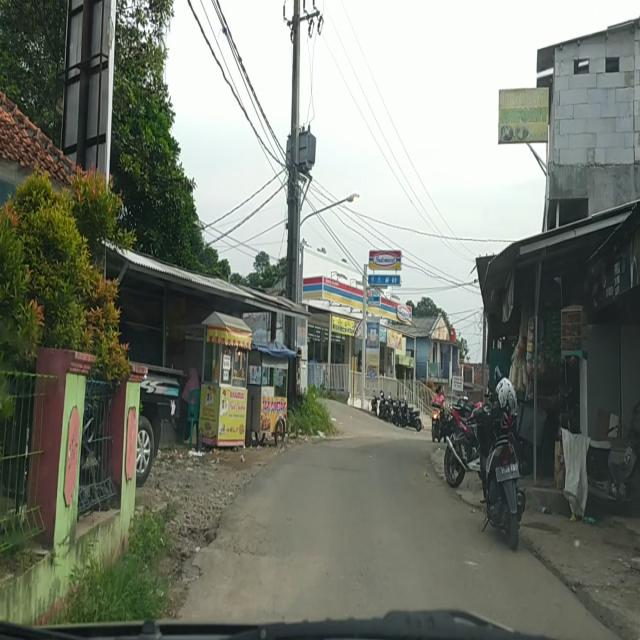Drain Hole: (214, 526, 304, 558)
